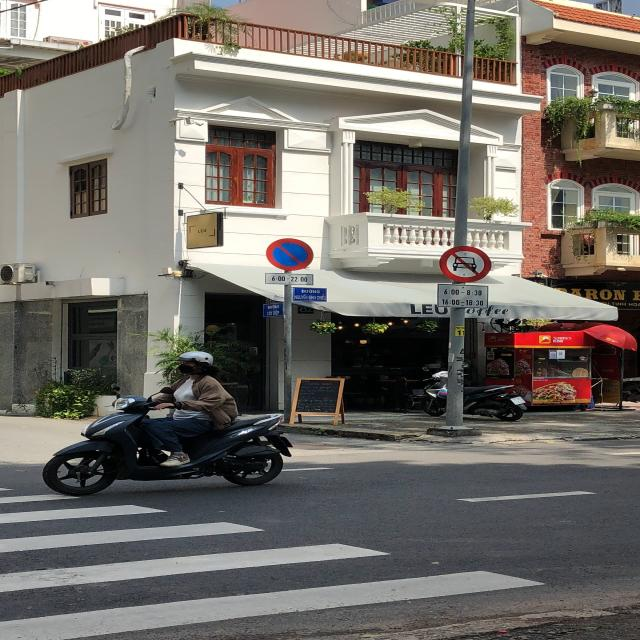Bien bao cam do xe: (266, 237, 312, 272)
Bien bao cam xe oto: (436, 245, 492, 283)
